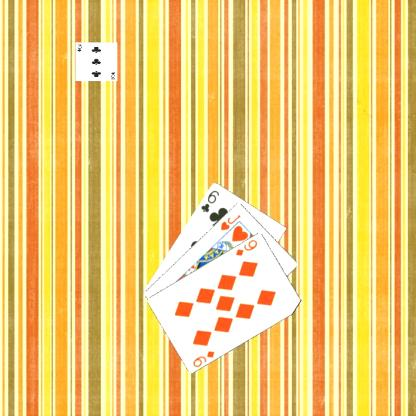6C: (198, 188, 220, 214)
9D: (233, 237, 259, 257), (190, 348, 216, 368)
JH: (218, 212, 242, 232)
